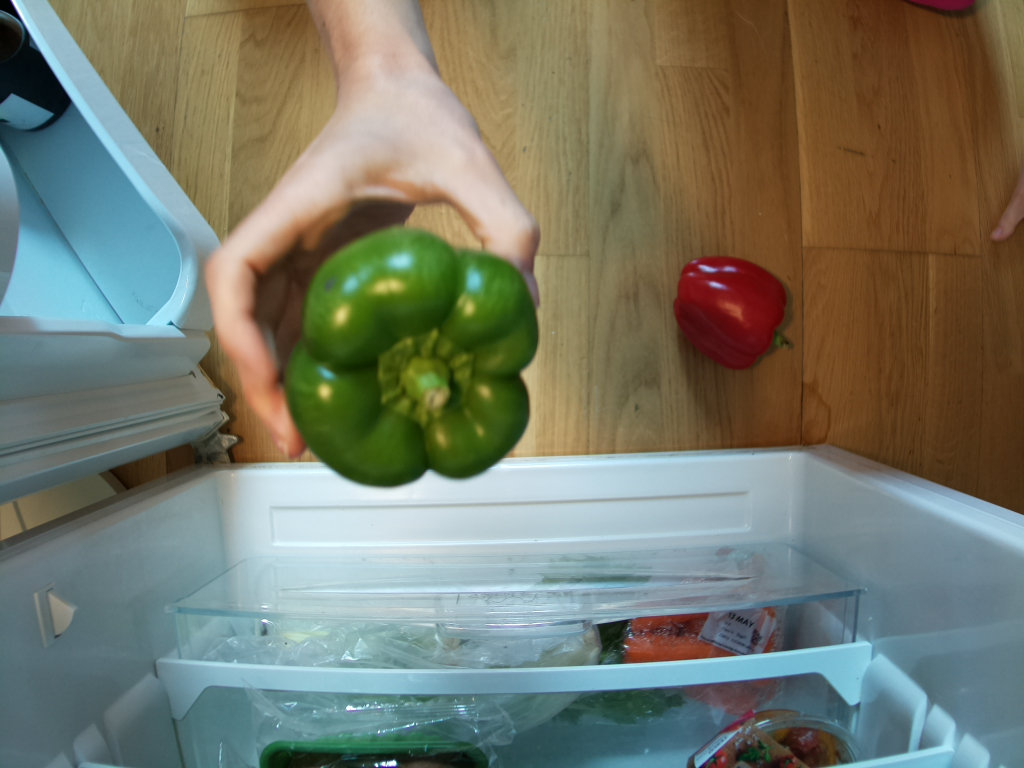pepper: (289, 224, 548, 491), (676, 254, 800, 373)
